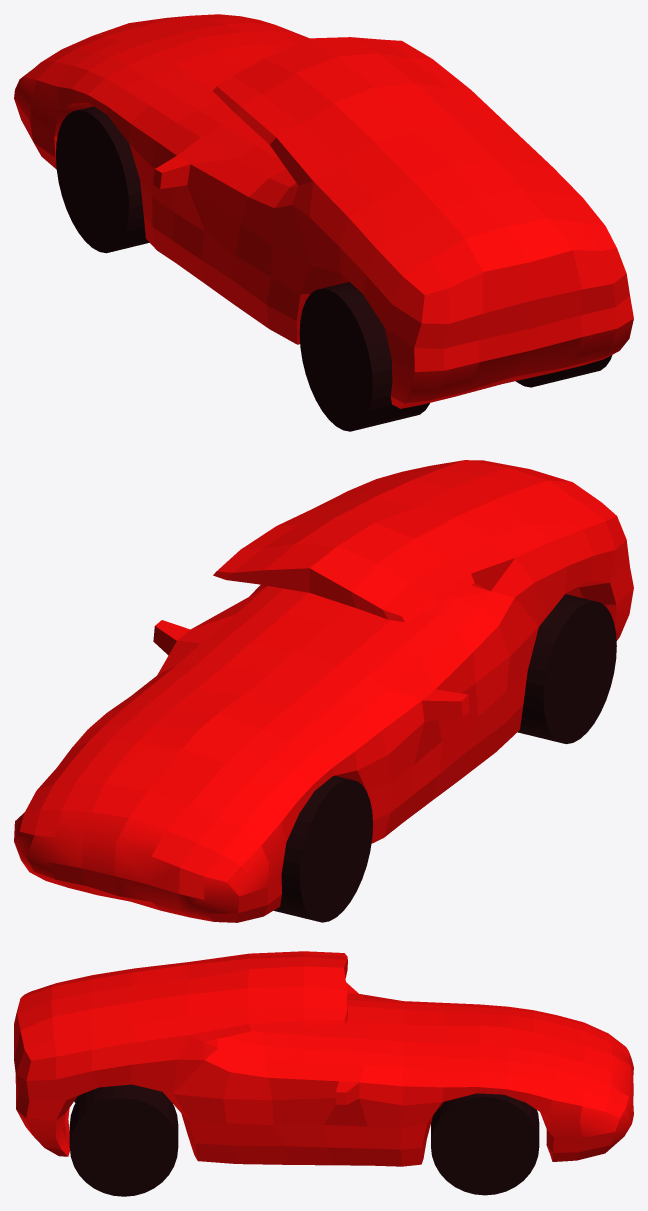
The model's file is car_red.fbx.
The picture shows the model from 3 angles, top to bottom: view 1: azimuth 30°, elevation 25°; view 2: azimuth 150°, elevation 25°; view 3: azimuth 270°, elevation 25°; orthographic projection. The views are drawn at different scales.
Parts seen in each view (by area): view 1: Car (Red), Wheels (Red); view 2: Car (Red), Wheels (Red); view 3: Car (Red), Wheels (Red).
Part boxes in pixels (bbox=[...]): Car (Red): bbox=[14, 14, 633, 408]; Wheels (Red): bbox=[56, 106, 612, 431]; Car (Red): bbox=[14, 460, 633, 922]; Wheels (Red): bbox=[273, 594, 616, 922]; Car (Red): bbox=[14, 951, 633, 1166]; Wheels (Red): bbox=[69, 1084, 539, 1196].
Size of the model in its own units: 488 by 379 by 1143.
1 material, 1 textured.
